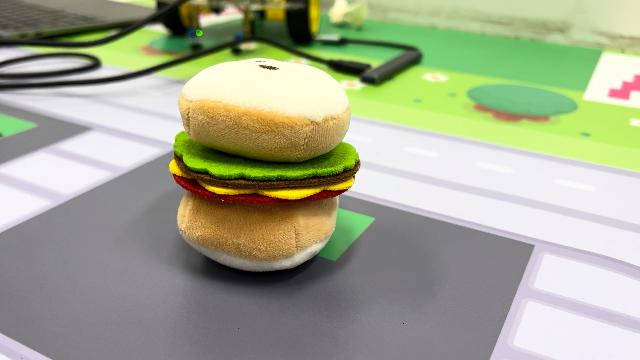sandwich: (168, 55, 362, 274)
